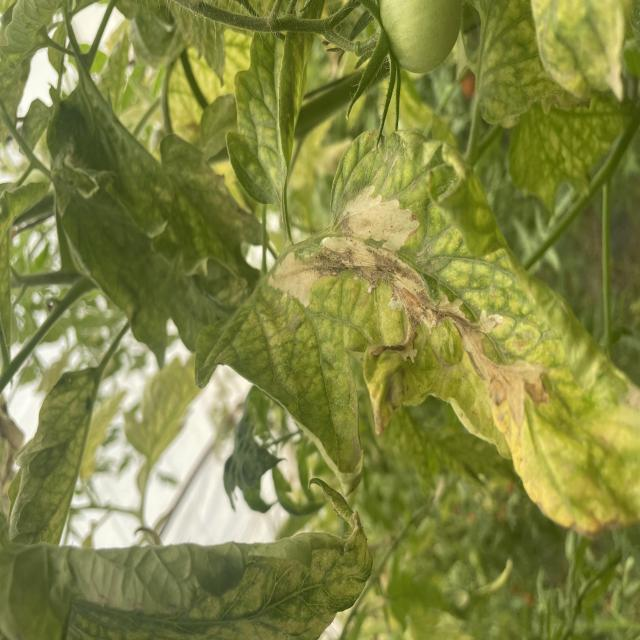Tuta absoluta: (264, 163, 591, 424)
